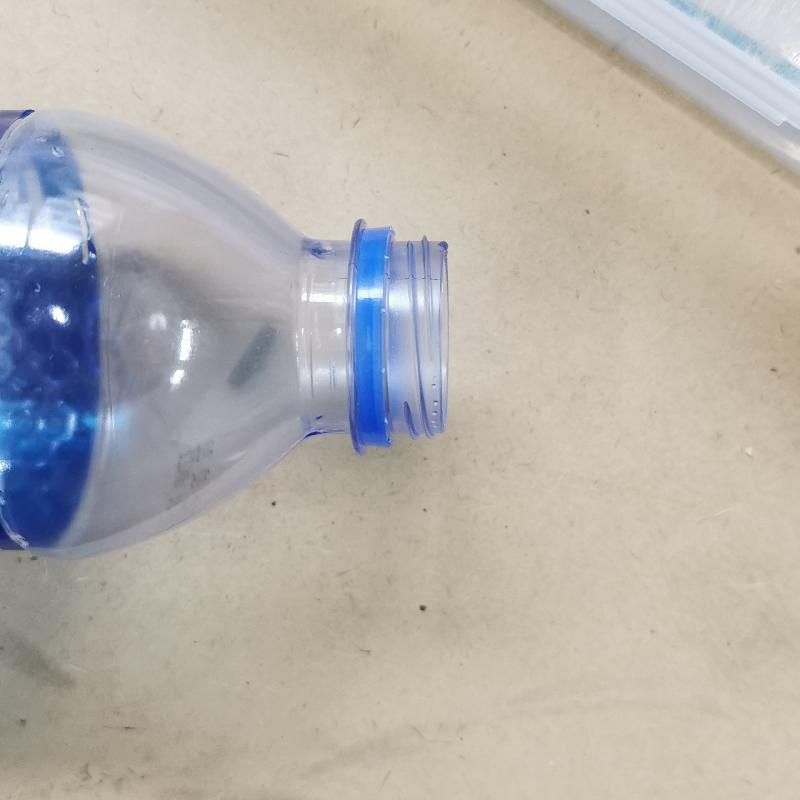bottles: (1, 99, 455, 565)
